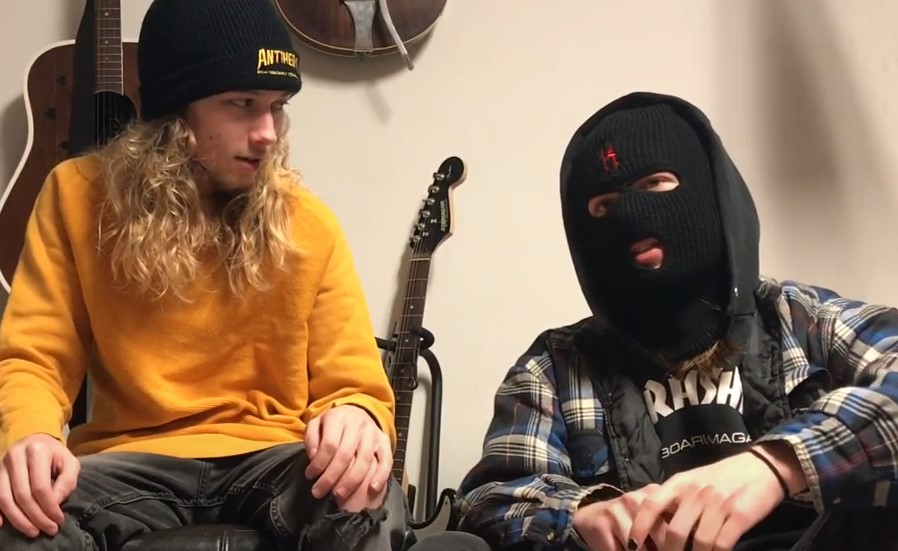face_no_mask: (163, 25, 291, 196)
